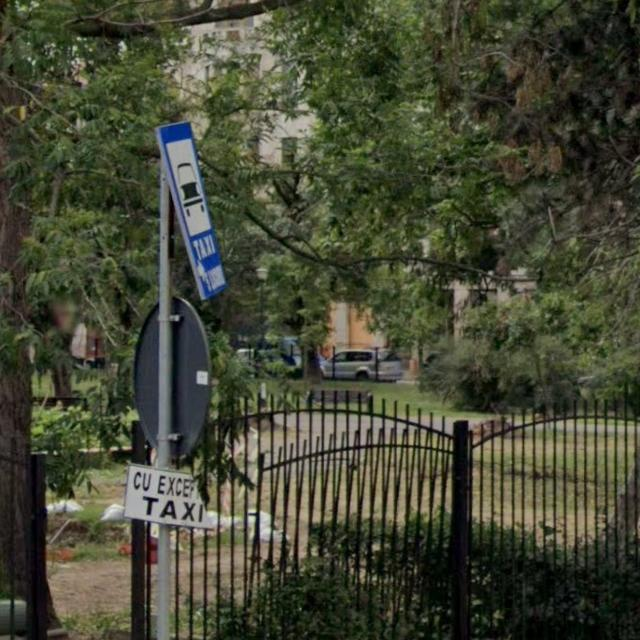info_taxi_parking: (156, 121, 226, 302)
